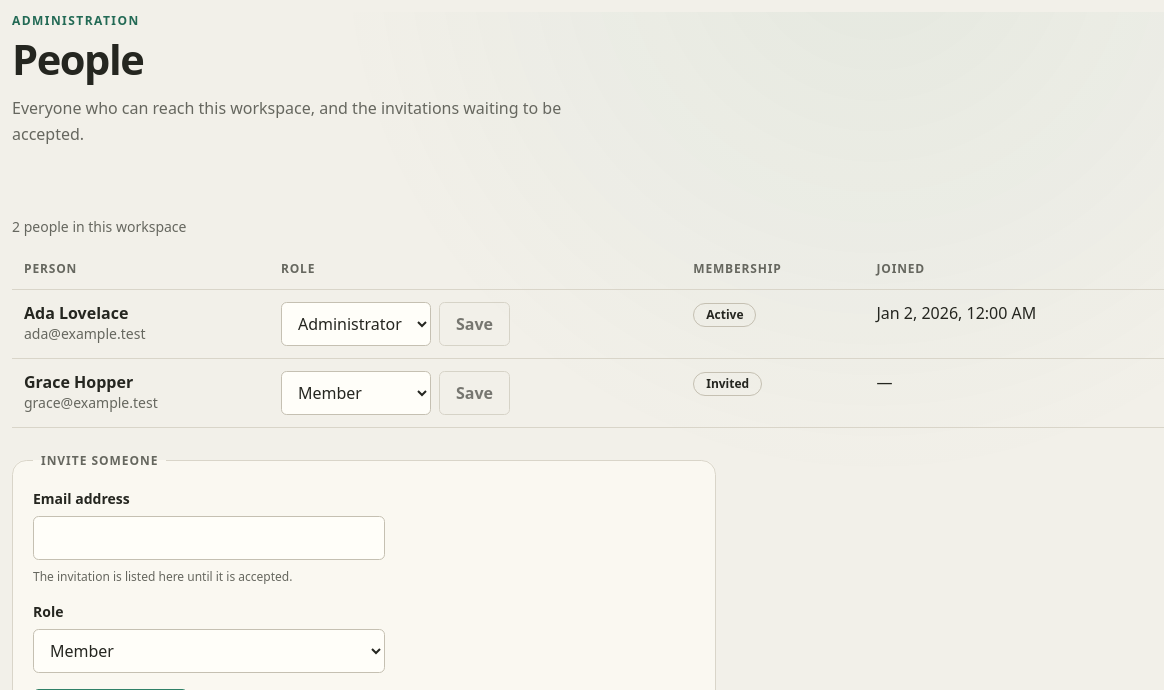
it: administration: people › saves a role change with the row version
The width and height of the screenshot is (1164, 690).
Select "Administrator" in the dropdown named "Role for Grace Hopper" at (356, 393), box [281,371,431,415]
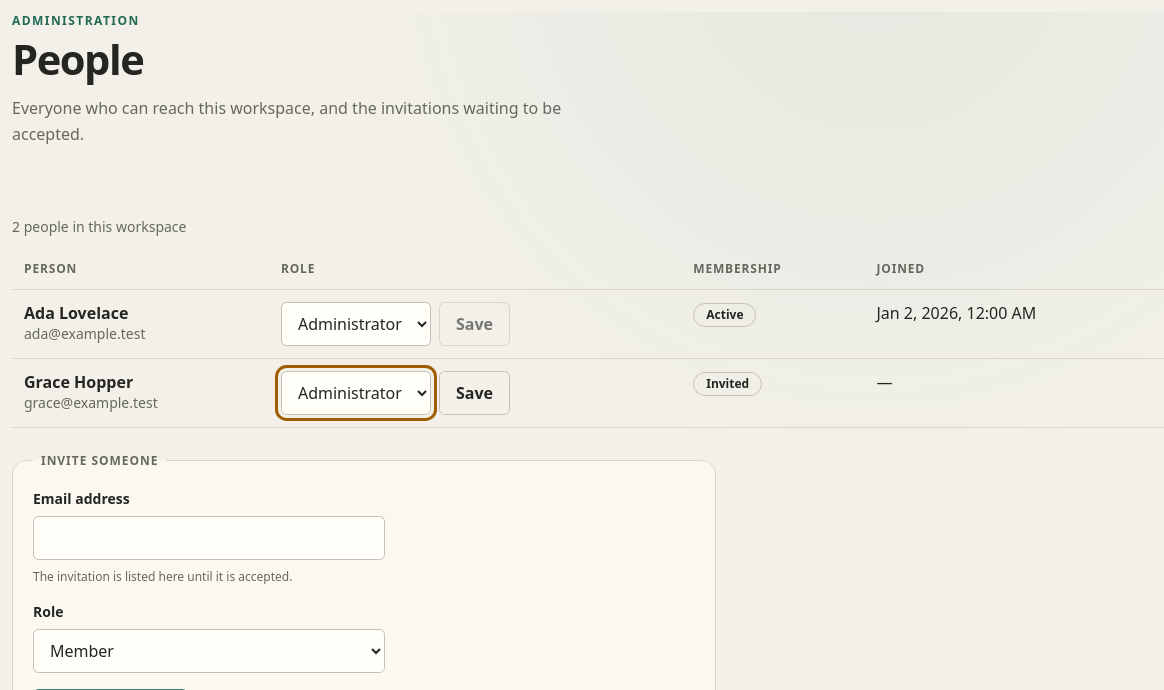
Click the button with aria-label "Save role for Grace Hopper".
click(474, 393)  # box [439,371,510,415]
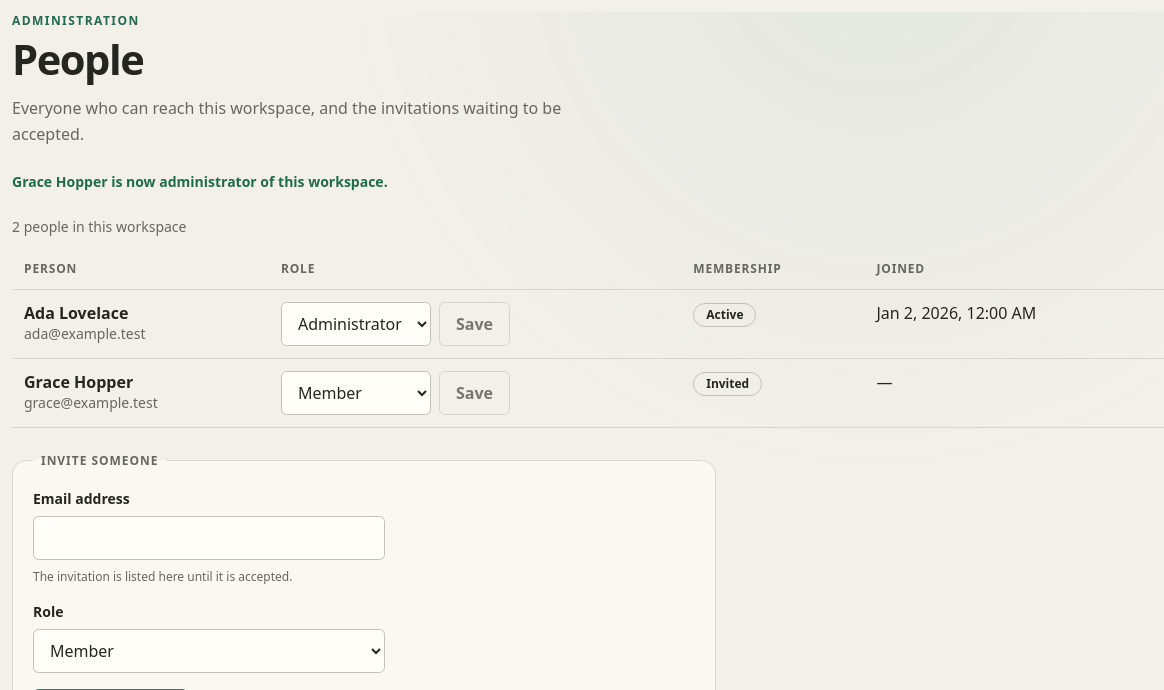
Expected: the message shows "Grace Hopper is now administrator", [12,172,388,190]
